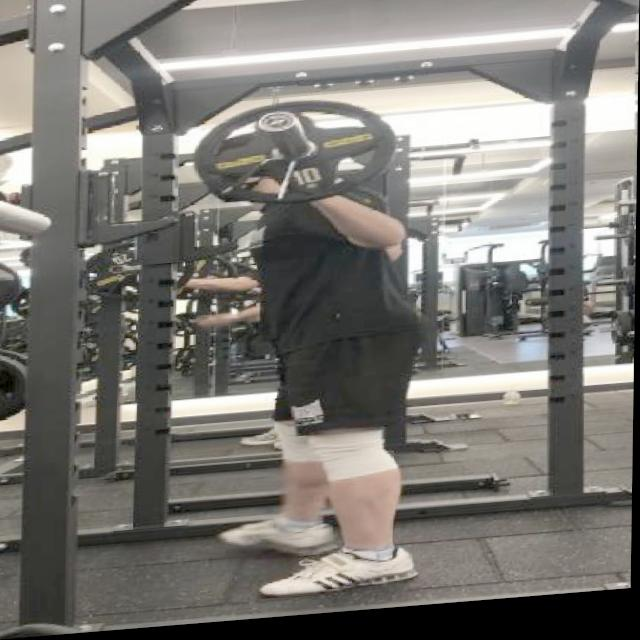barbell: (191, 97, 401, 223)
